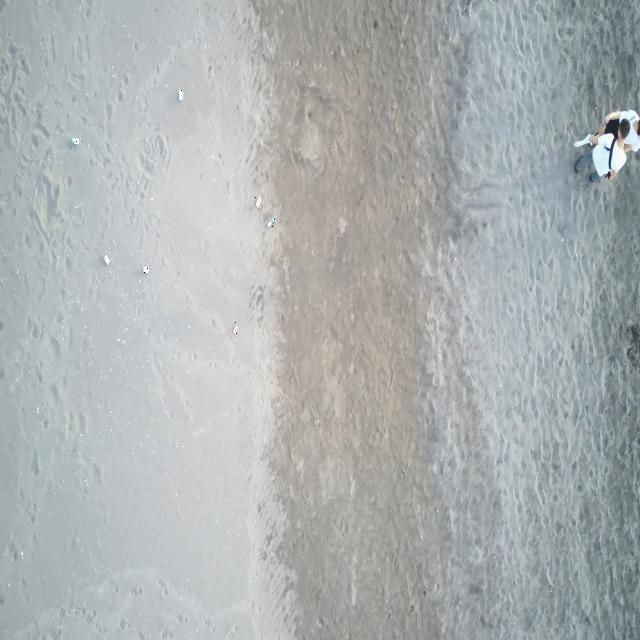Garbage: (575, 135, 592, 147), (267, 216, 275, 227), (176, 88, 183, 100), (103, 253, 110, 264), (232, 322, 238, 333), (71, 136, 80, 143), (141, 264, 148, 273), (255, 195, 260, 207)
